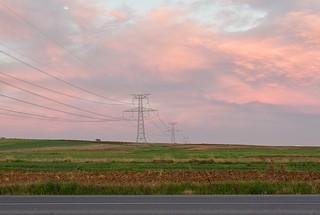power_tower: (120, 88, 157, 145)
